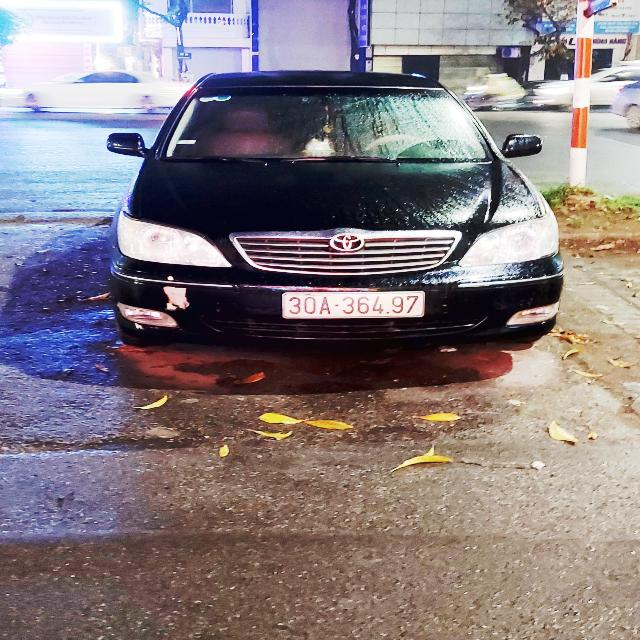license_plate: (282, 291, 428, 321)
